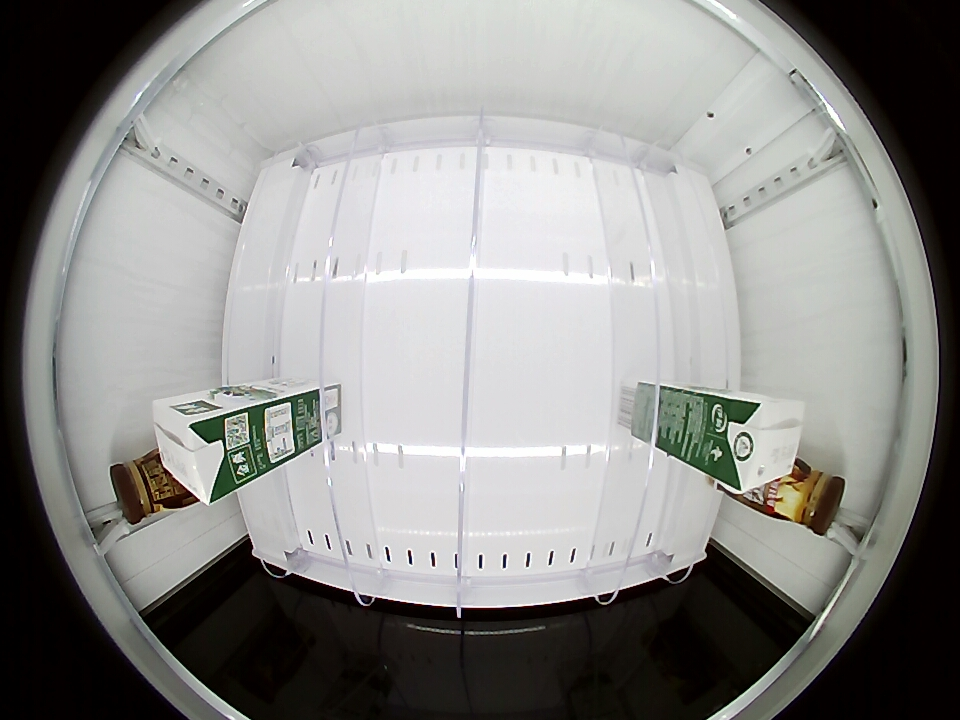jindian: (152, 393, 243, 506), (704, 394, 805, 493)
lujikafei: (777, 462, 846, 536), (110, 451, 177, 523)
